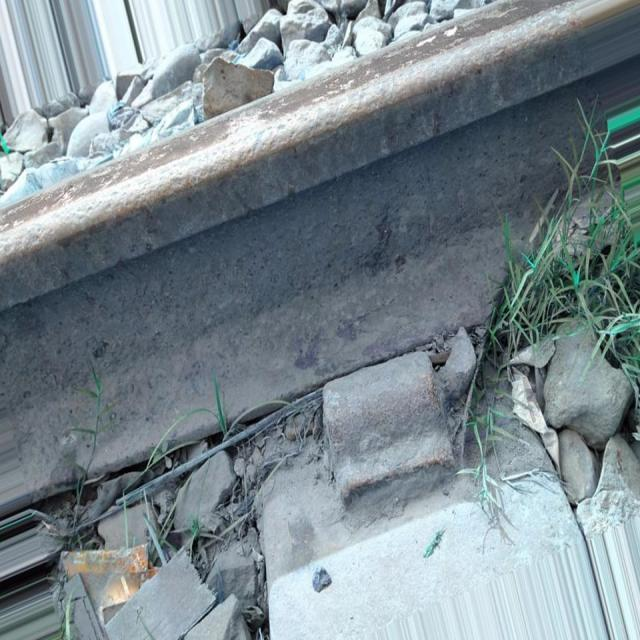Missing Fastener: (289, 314, 497, 564)
